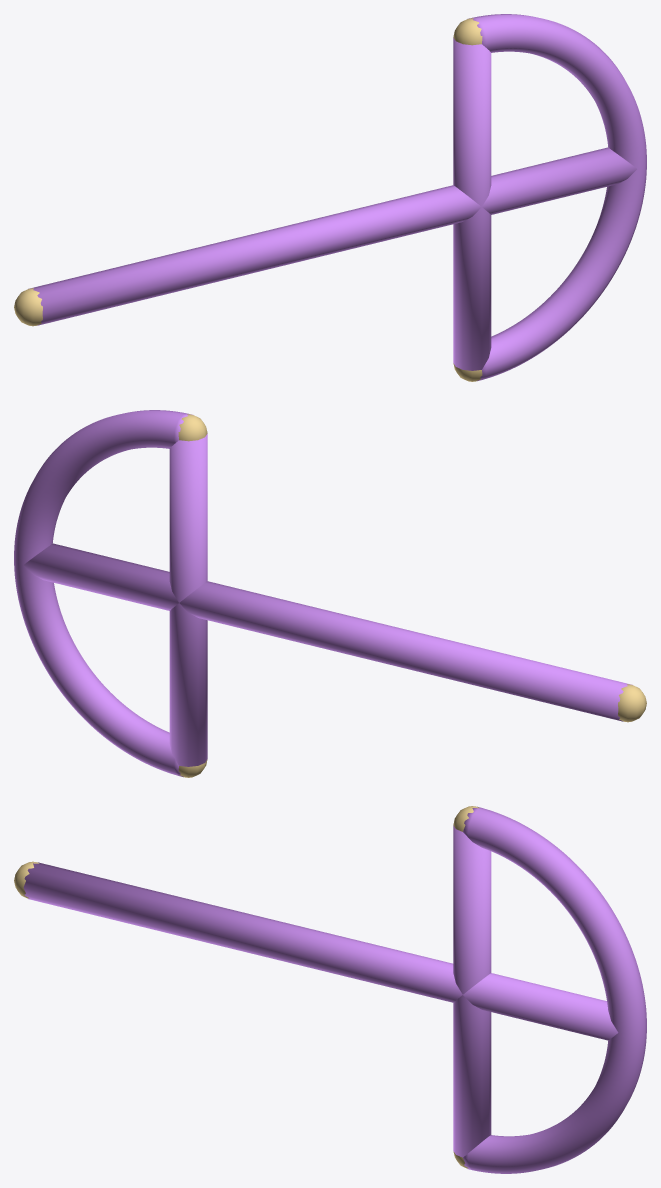
The model's file is umbrella-bc5yB5v_.glb.
3 renders of one model, top to bottom at view 1: azimuth 30°, elevation 25°; view 2: azimuth 150°, elevation 25°; view 3: azimuth 330°, elevation 25°, orthographic.
Visible parts, largest first — view 1: R3D_umbrella_Body_0, R3D_umbrella_Body_1, R3D_umbrella_Body_2, R3D_umbrella_Tip_0, R3D_umbrella_Tip_3; view 2: R3D_umbrella_Body_0, R3D_umbrella_Body_1, R3D_umbrella_Body_2, R3D_umbrella_Tip_0, R3D_umbrella_Tip_3; view 3: R3D_umbrella_Body_0, R3D_umbrella_Body_1, R3D_umbrella_Body_2.
Boxes of the visible parts, box(x1,y1,x2,y2) form: R3D_umbrella_Body_0: box(28, 147, 636, 325); R3D_umbrella_Body_1: box(469, 14, 646, 381); R3D_umbrella_Body_2: box(453, 37, 491, 370); R3D_umbrella_Tip_0: box(14, 288, 42, 326); R3D_umbrella_Tip_3: box(453, 18, 482, 45); R3D_umbrella_Body_0: box(24, 543, 632, 721); R3D_umbrella_Body_1: box(14, 410, 191, 777); R3D_umbrella_Body_2: box(169, 433, 207, 766); R3D_umbrella_Tip_0: box(618, 684, 646, 722); R3D_umbrella_Tip_3: box(178, 414, 207, 441); R3D_umbrella_Body_0: box(23, 862, 618, 1040); R3D_umbrella_Body_1: box(463, 806, 646, 1173); R3D_umbrella_Body_2: box(453, 825, 491, 1157).
Bounding box in the file's own units: 3.43 × 1.88 × 0.18.
